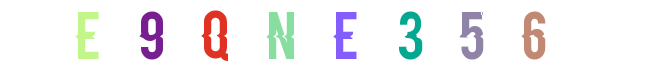3: (371, 0, 451, 80)
5: (406, 0, 486, 80)
6: (475, 0, 555, 80)
9: (175, 0, 255, 80)
E: (112, 0, 192, 80), (303, 0, 383, 80)
N: (286, 0, 366, 80)
Q: (177, 0, 257, 80)
